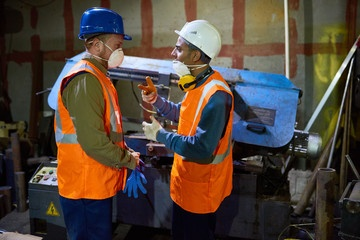blue: (76, 6, 131, 66)
white: (167, 16, 224, 76)
